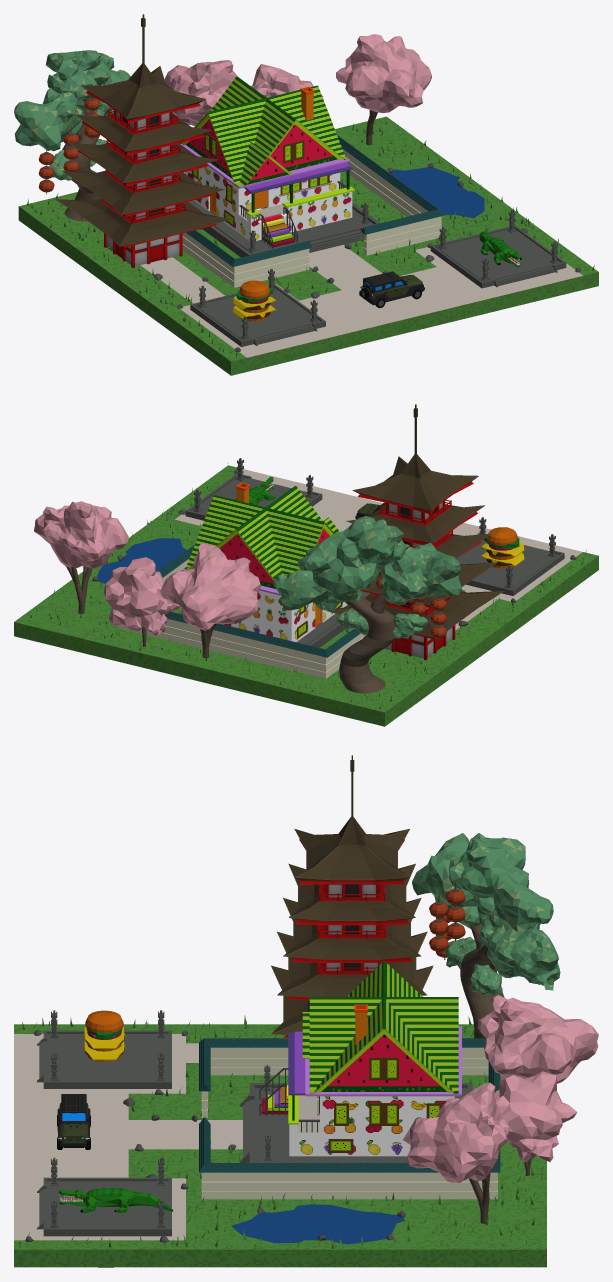
3 renders of one model, top to bottom at view 1: azimuth 30°, elevation 25°; view 2: azimuth 150°, elevation 25°; view 3: azimuth 270°, elevation 25°, orthographic. The views are drawn at different scales.
Parts seen in each view (by area): view 1: Cube.005, Cube.1063, VEHICLES_JEEP, OBJRANDOM_HAMBURGER, ANIMAL_COCODRILO; view 2: Cube.005, Cube.1063, OBJRANDOM_HAMBURGER, ANIMAL_COCODRILO; view 3: Cube.005, Cube.1063, OBJRANDOM_HAMBURGER, ANIMAL_COCODRILO, VEHICLES_JEEP.
Boxes of the visible parts, x1,y1,x2,y2 form: Cube.005: (14, 14, 598, 375); Cube.1063: (179, 76, 354, 248); VEHICLES_JEEP: (359, 271, 424, 308); OBJRANDOM_HAMBURGER: (233, 280, 276, 321); ANIMAL_COCODRILO: (479, 229, 521, 267); Cube.005: (14, 404, 598, 726); Cube.1063: (181, 482, 347, 642); OBJRANDOM_HAMBURGER: (480, 527, 524, 568); ANIMAL_COCODRILO: (235, 476, 275, 505); Cube.005: (14, 755, 598, 1267); Cube.1063: (259, 961, 461, 1156); OBJRANDOM_HAMBURGER: (83, 1010, 125, 1061); ANIMAL_COCODRILO: (58, 1188, 173, 1212); VEHICLES_JEEP: (57, 1094, 90, 1149).
Bounding box in the file's own units: 4528 × 2663 × 4389.
41 materials, 7 textured.
